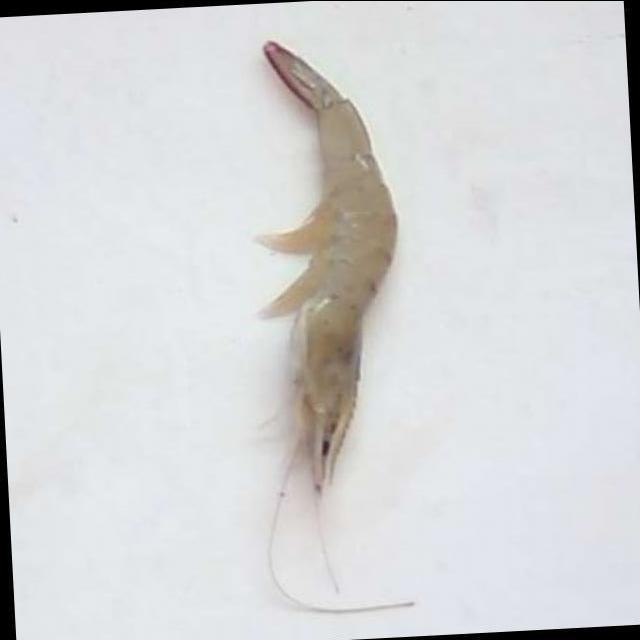shrimp: (257, 40, 397, 492)
